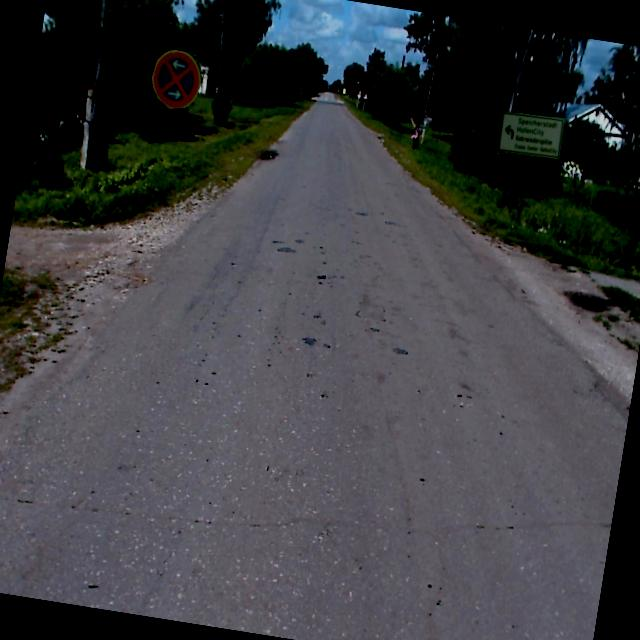road: (0, 92, 628, 640)
